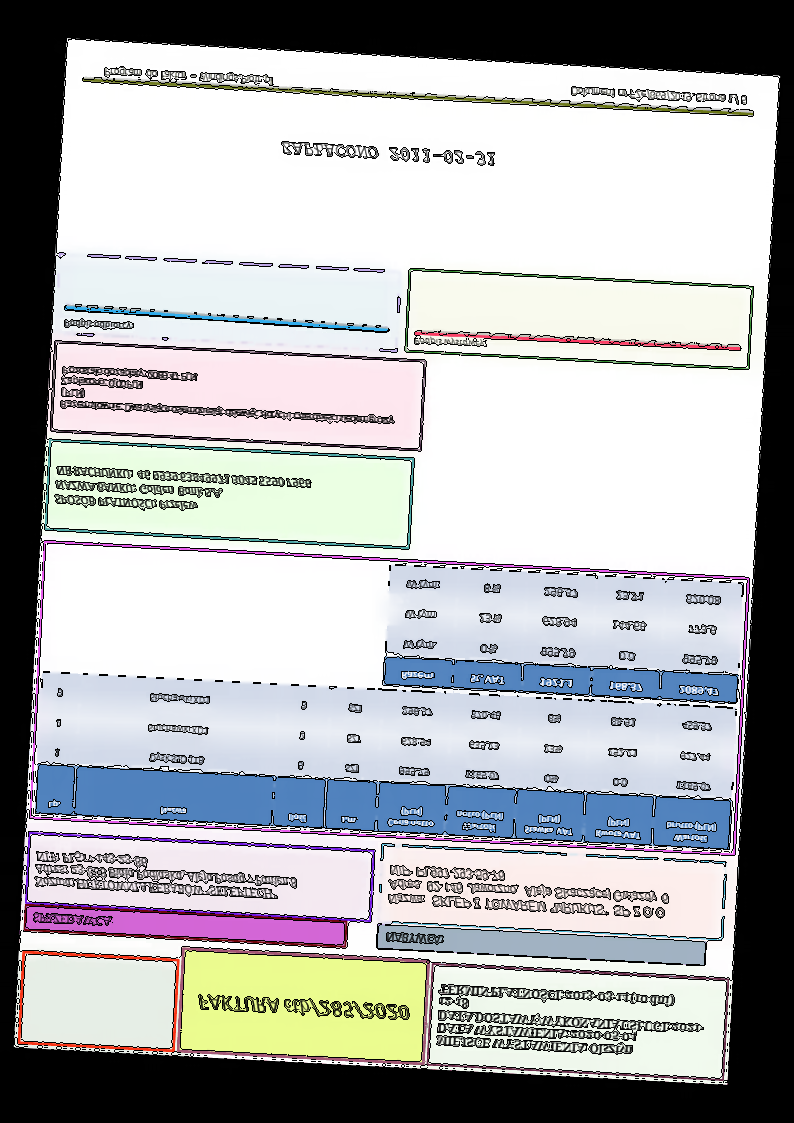Table: (33, 670, 736, 851), (381, 563, 745, 705)
TextBox: (57, 364, 398, 429), (435, 981, 707, 1061), (386, 862, 672, 921), (53, 463, 313, 520), (32, 848, 297, 903), (196, 989, 411, 1025), (279, 138, 498, 167), (568, 80, 748, 108), (102, 63, 274, 87), (30, 910, 116, 928), (60, 315, 138, 333), (384, 928, 445, 947), (412, 334, 488, 349)
